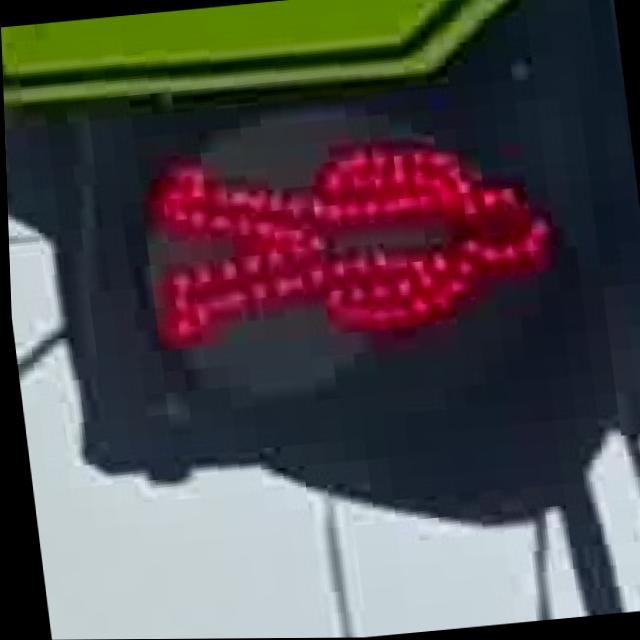red_light: (128, 106, 596, 403)
